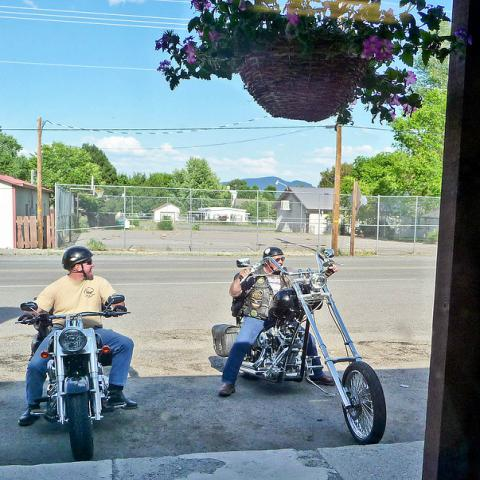motorcycle: (238, 248, 387, 446), (19, 296, 131, 460)
